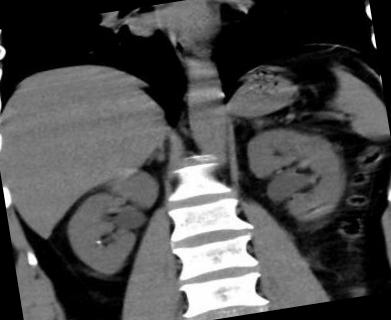Tas_Var: (92, 235, 105, 248)
